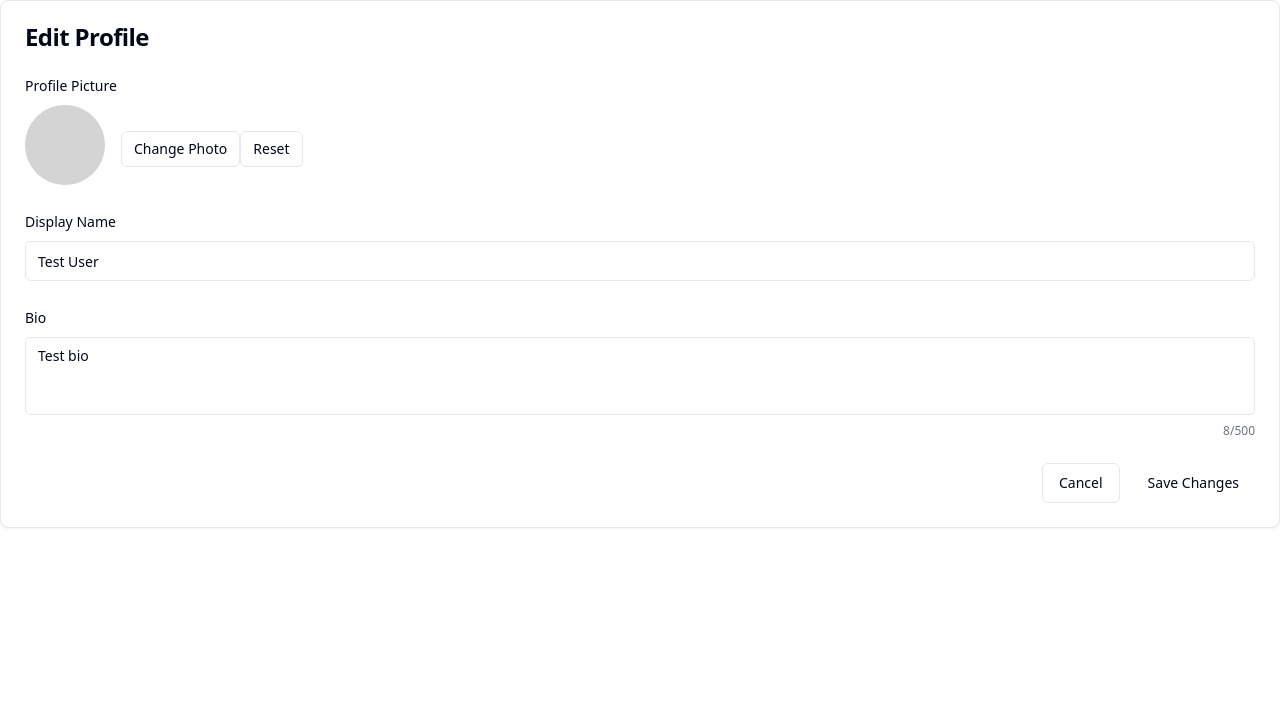
Test: ProfileEditForm › disables form during submission
The width and height of the screenshot is (1280, 720).
Click the button "Save Changes" at (1193, 483), box [1132,463,1255,503]
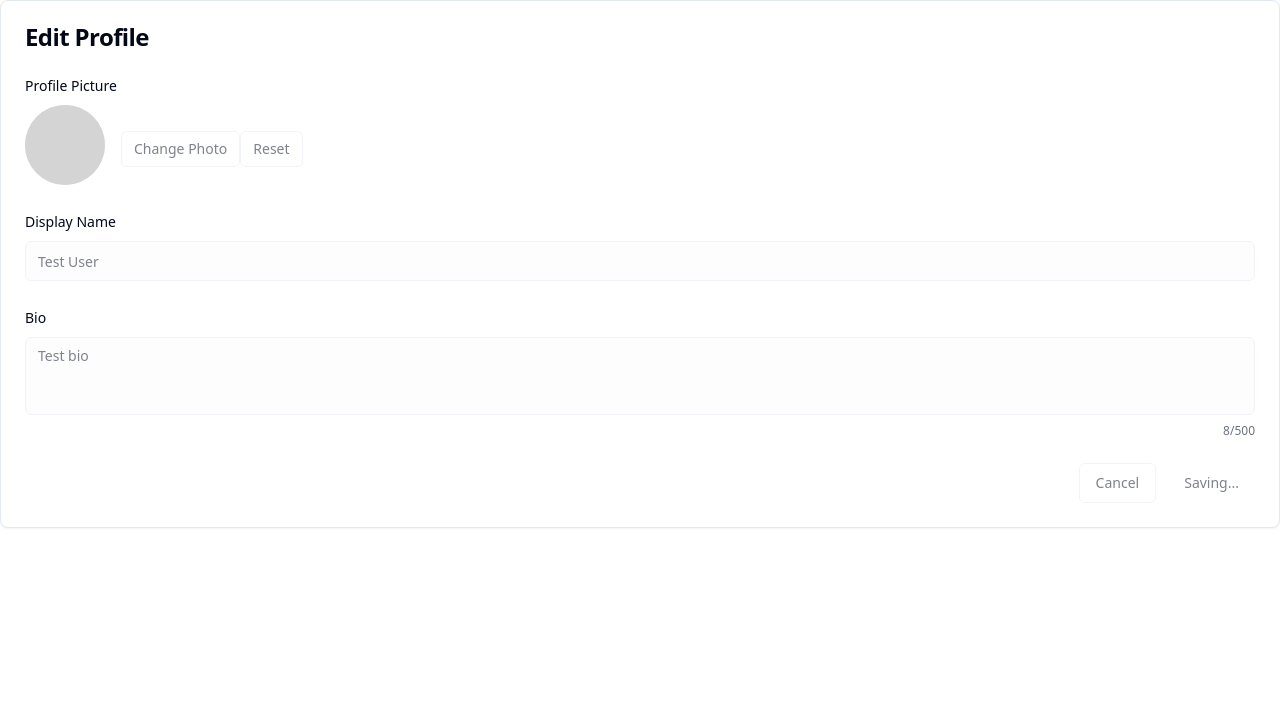
Expected: the text "Saving..." is shown, [1184,473,1239,493]
Expected: the field showing "Test User" is disabled, [25,241,1255,281]
